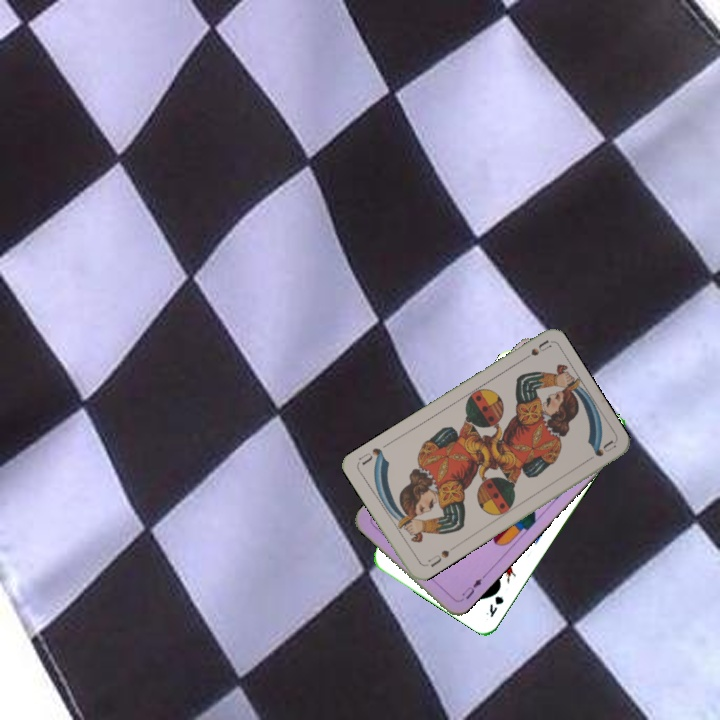EU: (458, 574, 484, 602)
GK: (482, 592, 506, 620)
SU: (515, 336, 553, 365), (420, 546, 452, 570)
